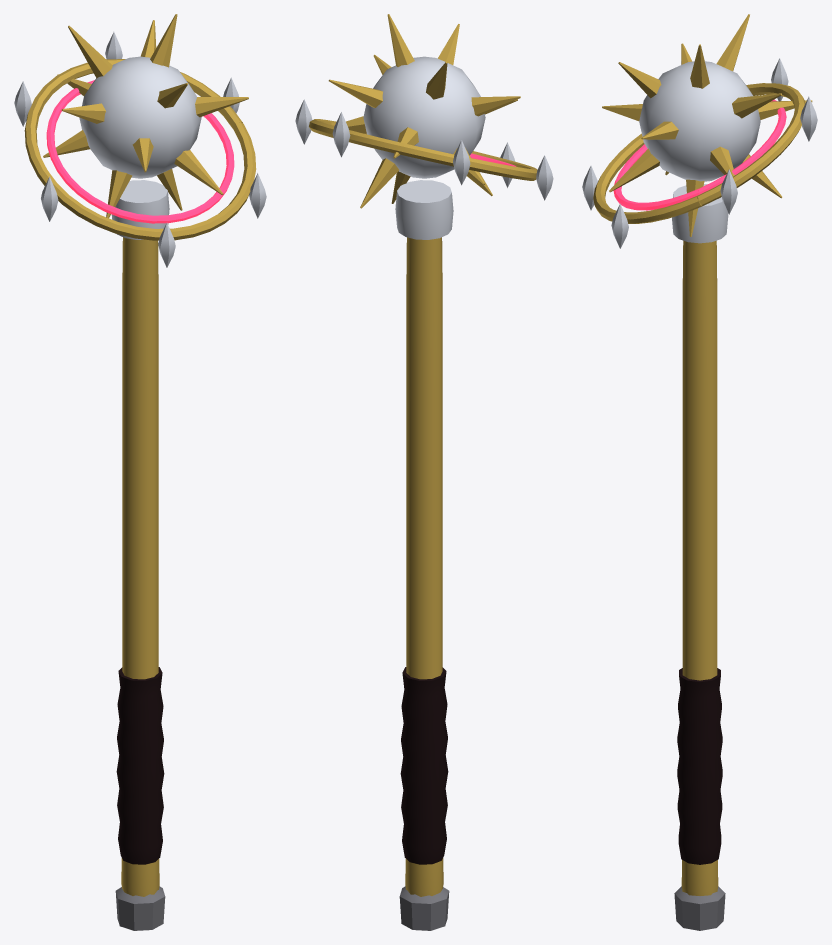
Rendered from esc_w_knight_club_1.glb.
The picture shows the model from 3 angles, left to right: view 1: azimuth 30°, elevation 25°; view 2: azimuth 150°, elevation 25°; view 3: azimuth 270°, elevation 25°; orthographic projection.
Parts seen in each view (by area): view 1: esc_w_knight_club_1; view 2: esc_w_knight_club_1; view 3: esc_w_knight_club_1.
Part boxes in pixels (left/top/right/bottom): esc_w_knight_club_1: left=14, top=14, right=266, bottom=930; esc_w_knight_club_1: left=295, top=14, right=553, bottom=930; esc_w_knight_club_1: left=582, top=14, right=817, bottom=930.
Size of the model in its own units: 0.2565 by 0.9827 by 0.2323.
